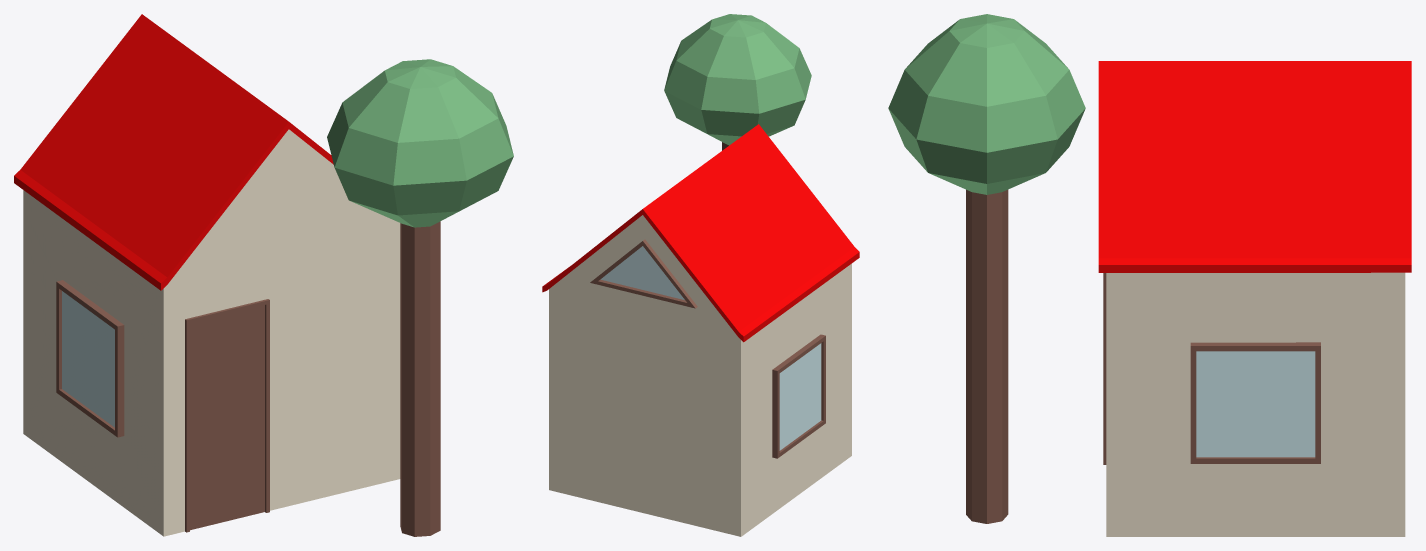
The model's file is house.obj.
3 views of the same model, side by side, from view 1: azimuth 30°, elevation 25°; view 2: azimuth 150°, elevation 25°; view 3: azimuth 270°, elevation 25° (orthographic). The views are drawn at different scales.
Parts seen in each view (by area): view 1: House, Tree; view 2: House, Tree; view 3: House, Tree.
Part boxes in pixels (<box>): House: <box>14,14,400,536</box>; Tree: <box>327,59,513,536</box>; House: <box>542,124,859,536</box>; Tree: <box>664,14,811,150</box>; House: <box>1098,61,1411,536</box>; Tree: <box>888,14,1085,523</box>.
Bounding box in the file's own units: 2.41 × 3.63 × 3.5.
